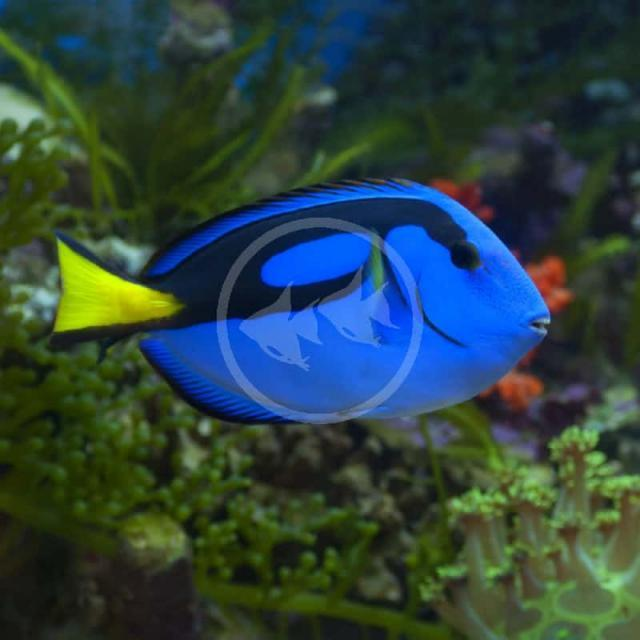BlueTang: (48, 174, 553, 426)
